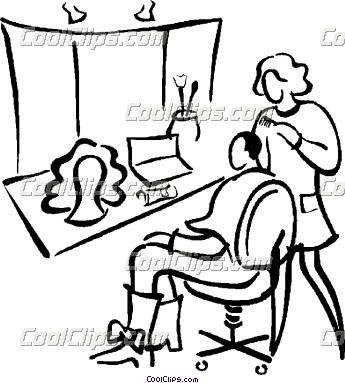chair: (189, 180, 298, 365)
person: (119, 132, 273, 348), (244, 53, 343, 360)
